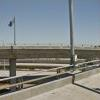Bridge: (7, 39, 96, 75)
